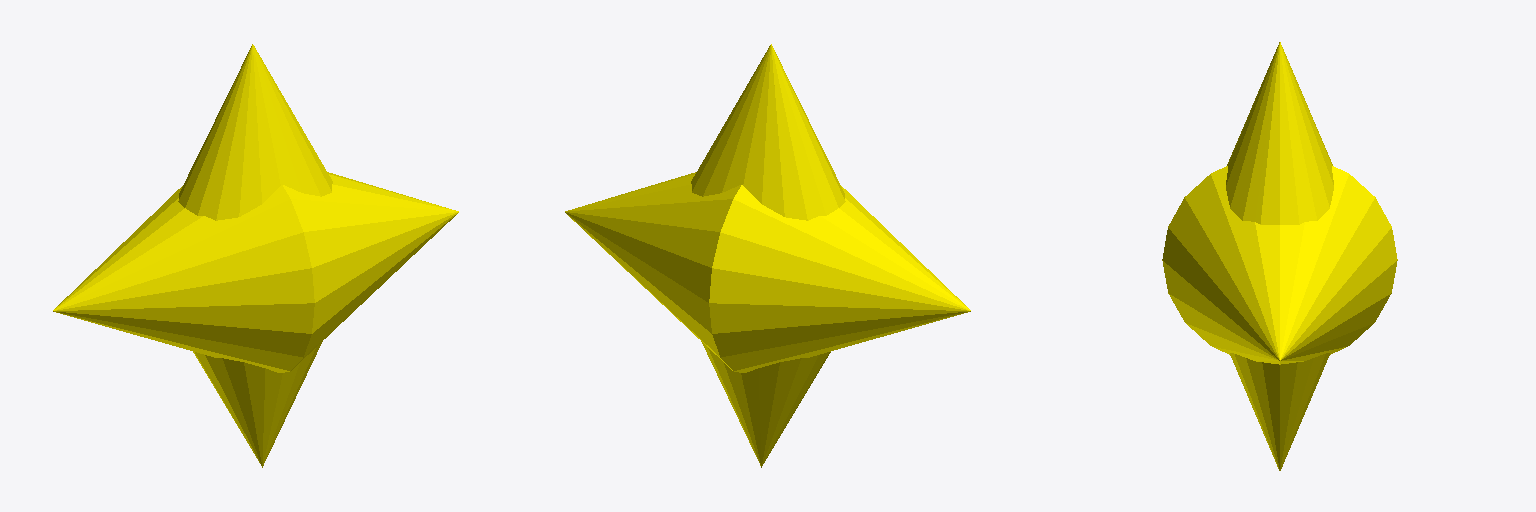
The picture shows the model from 3 angles: view 1: azimuth 30°, elevation 25°; view 2: azimuth 150°, elevation 25°; view 3: azimuth 270°, elevation 25°; orthographic projection.
Parts seen in each view (by area): view 1: pCone5; view 2: pCone5; view 3: pCone5.
Boxes of the visible parts, x1,y1,x2,y2 form: pCone5: [53, 44, 458, 467]; pCone5: [565, 44, 970, 467]; pCone5: [1162, 42, 1397, 470].
Bounding box in the file's own units: 1.92 × 1.92 × 0.9602.
1 materials, 1 textured.